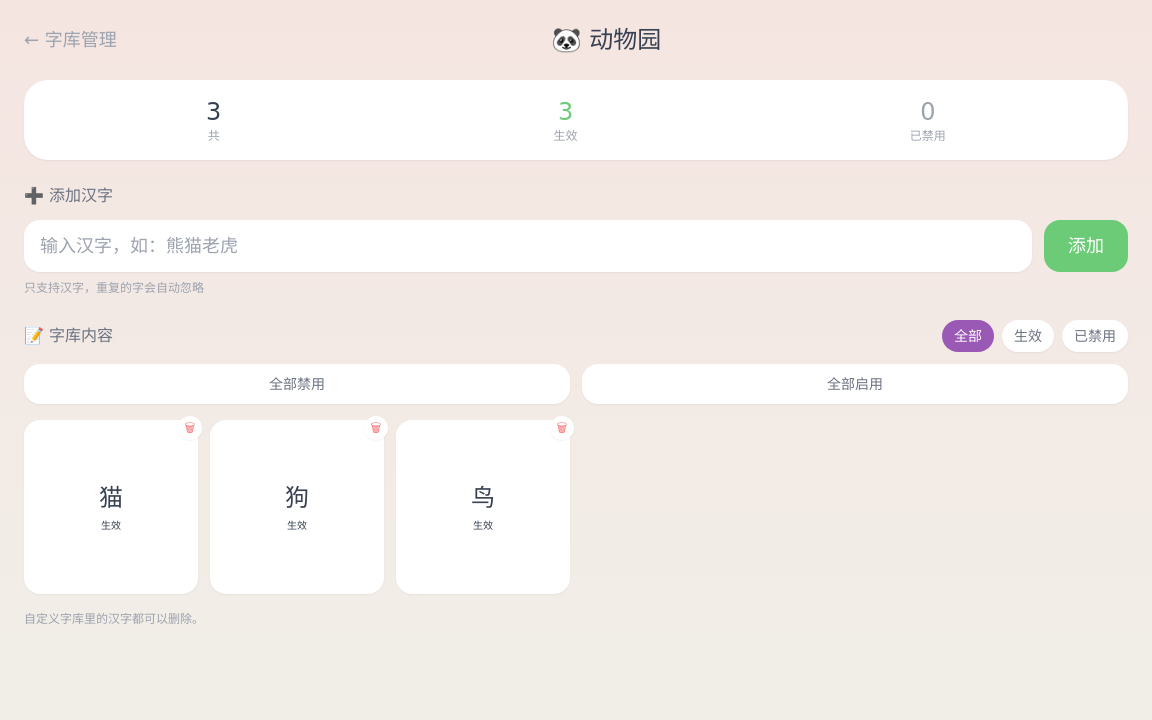
字库内容维护页 —— 自定义字库 › 自定义字库里的字可以删除
Expected: the heading "➕ 添加汉字" is shown, left=24, top=186, right=113, bottom=205
Click the button named "删除猫": (190, 428) left=178, top=416, right=202, bottom=440
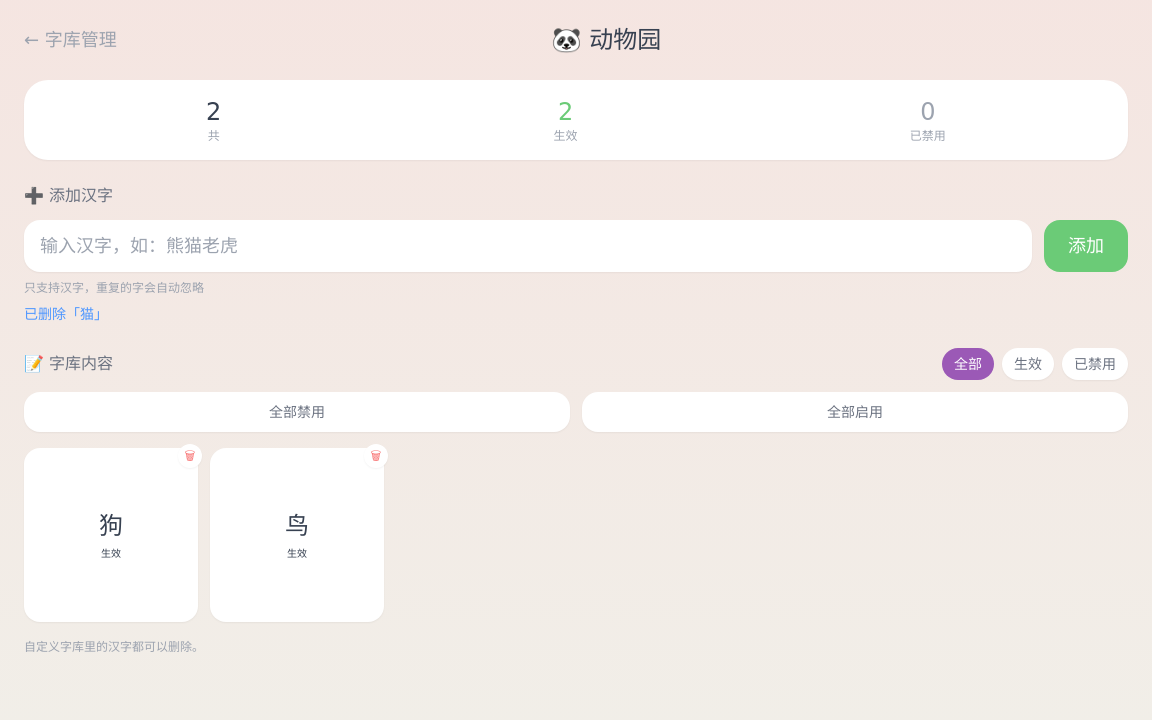
Expected: the text "已删除「猫」" is shown, left=24, top=306, right=108, bottom=322
